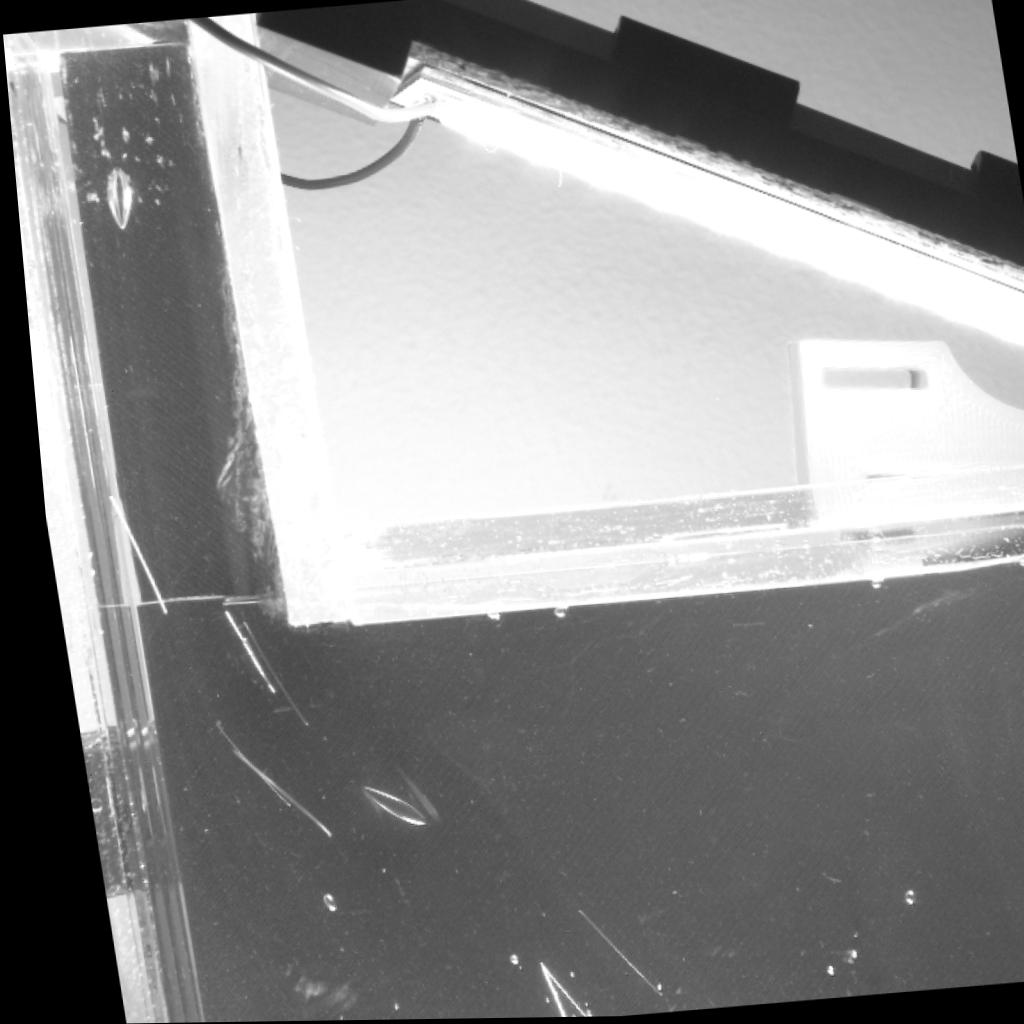Fiber: (211, 741, 316, 837), (96, 487, 157, 620), (195, 720, 278, 813), (558, 909, 644, 997), (227, 618, 295, 729), (212, 603, 266, 700), (521, 958, 568, 1018), (524, 965, 548, 1019)
